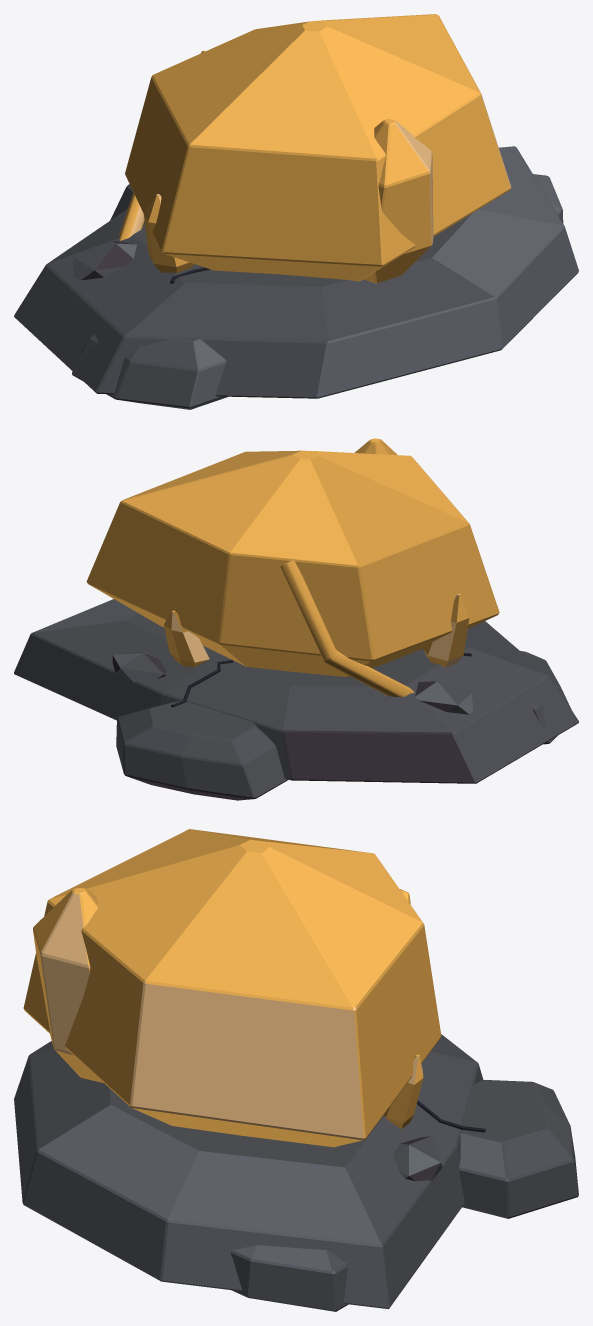
Rendered from BH_ORE_O02_Quartzo_de_Abobora_V02.glb.
3 renders of one model, top to bottom at view 1: azimuth 30°, elevation 25°; view 2: azimuth 150°, elevation 25°; view 3: azimuth 270°, elevation 25°, orthographic. The views are drawn at different scales.
Parts seen in each view (by area): view 1: Pumpkin quartz | broad six faces.003, Bedrock | primary.003, Bedrock | shoulder 1.003, Triangular heart.003, O02 | V02 embedded stone ledge.003, O02 | V02 secondary crystal 1.001, Fossil vine.003; view 2: Pumpkin quartz | broad six faces.003, Bedrock | primary.003, Bedrock | shoulder 3.003, Fossil vine.003, O02 | V02 secondary crystal 1.001, O02 | V02 secondary crystal 0.001, O02 | V02 embedded stone ledge.003, O02 | V02 embedded stone ledge.002, Bedrock | shoulder 1.003; view 3: Pumpkin quartz | broad six faces.003, Bedrock | primary.003, Bedrock | shoulder 3.003, Triangular heart.003, Bedrock | shoulder 2.003, O02 | V02 embedded stone ledge.002, O02 | V02 secondary crystal 0.001.
Part boxes in pixels (x1,y1,x2,y2): Pumpkin quartz | broad six faces.003: [125, 14, 511, 281]; Bedrock | primary.003: [14, 146, 578, 398]; Bedrock | shoulder 1.003: [72, 335, 228, 409]; Triangular heart.003: [364, 119, 433, 283]; O02 | V02 embedded stone ledge.003: [73, 241, 136, 280]; O02 | V02 secondary crystal 1.001: [143, 194, 193, 272]; Fossil vine.003: [119, 50, 205, 240]; Pumpkin quartz | broad six faces.003: [86, 450, 499, 677]; Bedrock | primary.003: [14, 599, 578, 783]; Bedrock | shoulder 3.003: [116, 700, 288, 800]; Fossil vine.003: [280, 560, 414, 697]; O02 | V02 secondary crystal 1.001: [423, 594, 469, 667]; O02 | V02 secondary crystal 0.001: [164, 610, 209, 667]; O02 | V02 embedded stone ledge.003: [415, 681, 473, 714]; O02 | V02 embedded stone ledge.002: [112, 652, 166, 682]; Bedrock | shoulder 1.003: [520, 651, 571, 744]; Pumpkin quartz | broad six faces.003: [23, 829, 441, 1147]; Bedrock | primary.003: [14, 1034, 483, 1309]; Bedrock | shoulder 3.003: [459, 1080, 578, 1218]; Triangular heart.003: [33, 888, 103, 1082]; Bedrock | shoulder 2.003: [230, 1245, 348, 1311]; O02 | V02 embedded stone ledge.002: [393, 1136, 442, 1181]; O02 | V02 secondary crystal 0.001: [384, 1054, 423, 1128].
Size of the model in its own units: 2.91 by 1.52 by 2.32.
